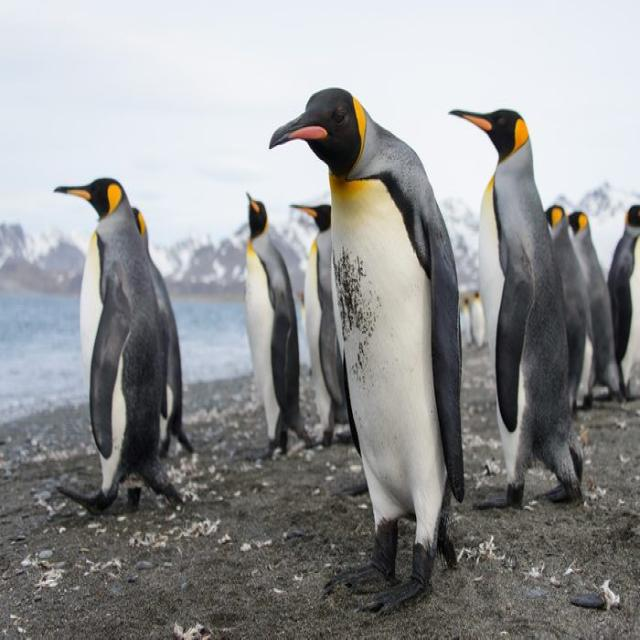Penguins: (282, 77, 470, 613), (460, 89, 588, 530), (44, 174, 181, 509), (241, 188, 306, 471), (295, 187, 346, 452), (542, 190, 575, 435), (607, 189, 640, 430)
